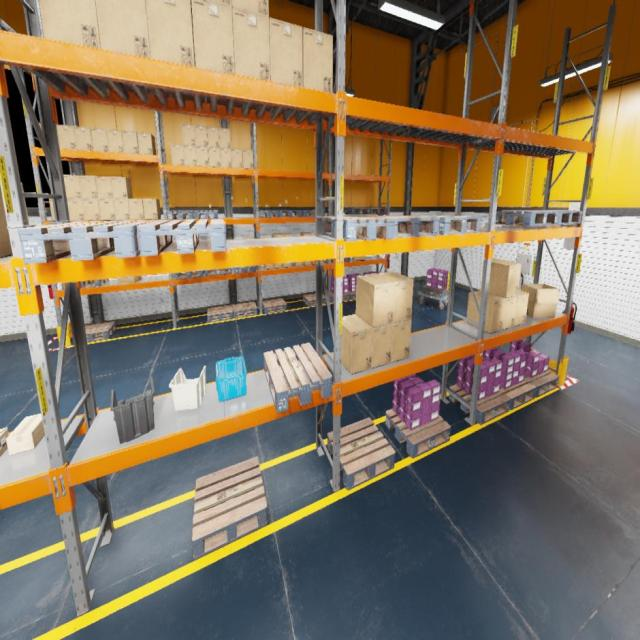box: (191, 0, 235, 74), (146, 0, 195, 66), (96, 0, 150, 58), (39, 0, 101, 48), (232, 8, 270, 81), (270, 17, 303, 86), (0, 183, 29, 258), (355, 274, 395, 328), (355, 314, 393, 368), (302, 27, 333, 93), (375, 272, 413, 322), (342, 314, 373, 374), (466, 291, 506, 333), (482, 258, 522, 298), (6, 414, 44, 455), (521, 284, 560, 317), (490, 292, 518, 330), (392, 319, 411, 363), (232, 0, 269, 18), (39, 122, 60, 148), (515, 291, 529, 326), (111, 176, 133, 198), (90, 127, 109, 152), (74, 126, 93, 150), (57, 125, 76, 149), (63, 175, 82, 198), (82, 198, 101, 220), (137, 132, 156, 154), (95, 176, 113, 198), (79, 176, 97, 198), (106, 130, 124, 152), (122, 131, 139, 154), (113, 198, 130, 220), (98, 198, 115, 220), (67, 198, 84, 220), (143, 199, 161, 219), (128, 199, 144, 219), (170, 144, 185, 164), (194, 125, 208, 146), (195, 146, 209, 167), (182, 123, 195, 145), (183, 145, 197, 165), (208, 147, 221, 167), (218, 128, 231, 148), (0, 428, 9, 456), (207, 126, 219, 147), (242, 149, 254, 169), (220, 148, 231, 167), (232, 149, 242, 168), (208, 0, 232, 7), (118, 276, 142, 282), (49, 199, 55, 221), (264, 264, 275, 269), (353, 256, 365, 260), (305, 260, 313, 266), (284, 262, 292, 268), (272, 233, 283, 237), (294, 262, 304, 266), (301, 233, 312, 236), (282, 233, 293, 236), (276, 264, 284, 268), (313, 261, 315, 264)
pallets: (192, 456, 267, 560), (18, 220, 154, 264), (327, 418, 395, 490), (264, 342, 332, 413), (137, 219, 227, 256), (385, 409, 451, 458), (448, 385, 511, 424), (323, 217, 395, 240), (370, 216, 439, 237), (418, 215, 482, 235), (496, 379, 536, 410), (496, 210, 558, 226), (524, 370, 560, 397), (72, 322, 116, 344), (533, 210, 582, 225), (62, 279, 108, 290), (208, 305, 233, 323), (232, 302, 258, 318), (262, 298, 287, 313), (422, 285, 449, 298), (174, 270, 204, 280), (303, 294, 327, 306), (327, 291, 350, 303), (168, 210, 195, 220), (205, 268, 231, 276), (194, 210, 218, 218), (234, 266, 256, 274), (259, 210, 280, 218), (278, 210, 302, 217), (344, 208, 370, 214), (302, 210, 324, 217), (326, 257, 350, 263), (370, 208, 387, 214), (348, 291, 356, 300)
